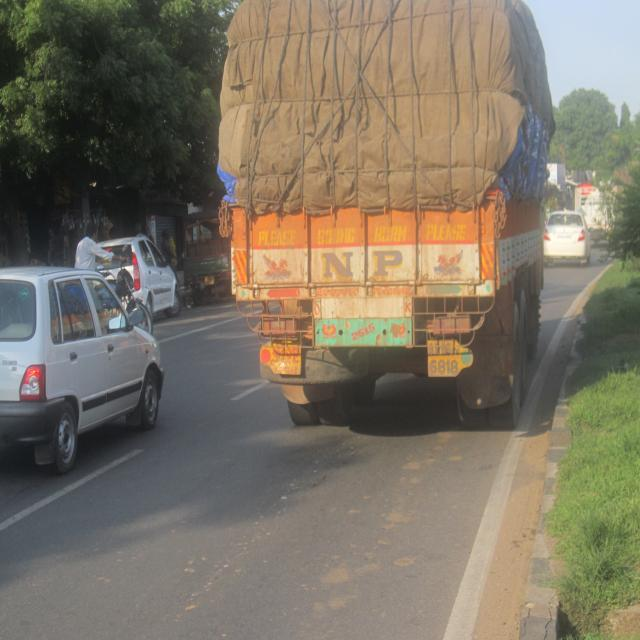car_back: (0, 261, 161, 478), (539, 202, 595, 274)
truck_back: (214, 7, 558, 426)
